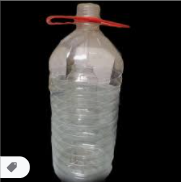Bottle: (44, 3, 132, 182)
